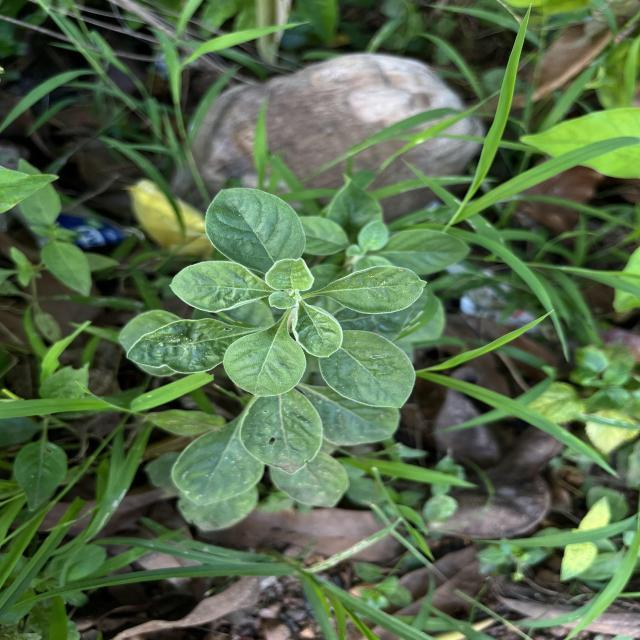Aerva lanata: (202, 186, 308, 276), (316, 330, 418, 410), (221, 313, 309, 398), (165, 258, 272, 316), (317, 264, 430, 316), (290, 300, 344, 360), (264, 256, 316, 293)
